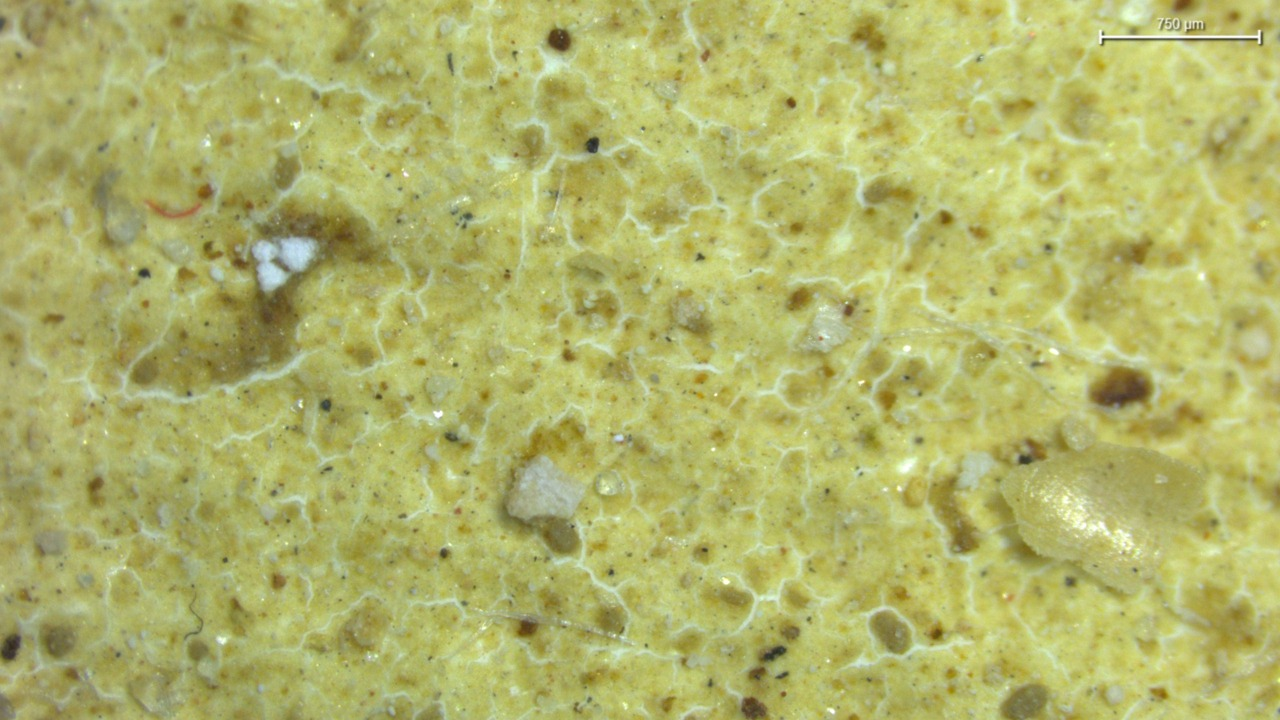microplastic_fragment: (1001, 443, 1204, 592), (506, 455, 584, 522)
